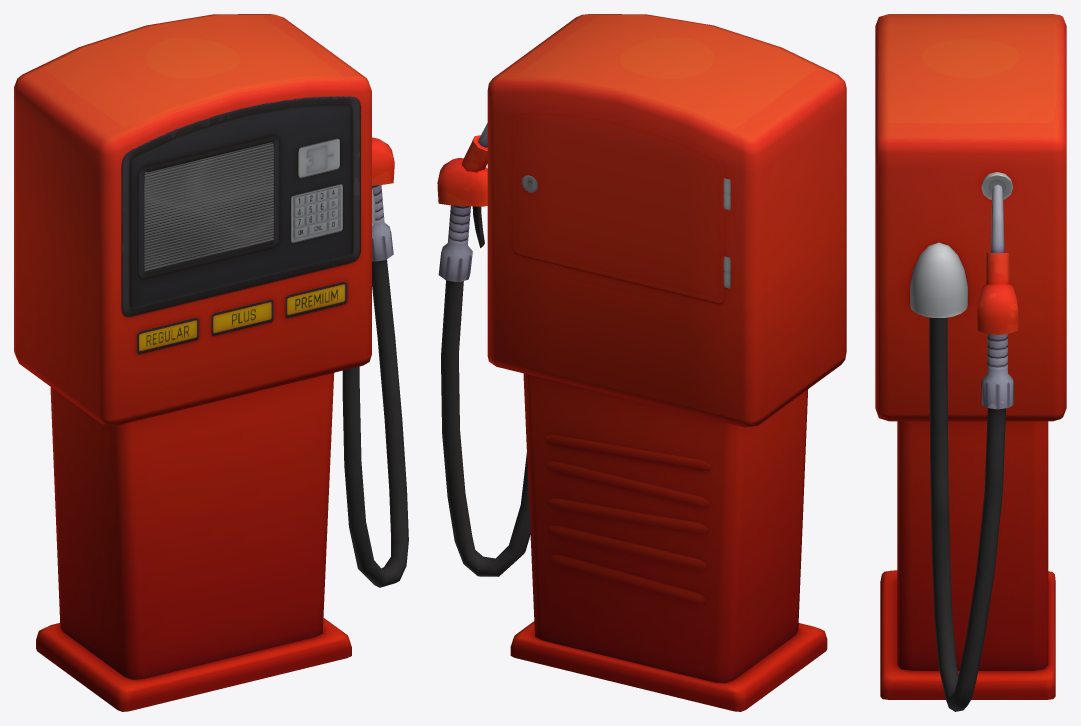
File: GasStationPump01.FBX
3 renders of one model, left to right at view 1: azimuth 30°, elevation 25°; view 2: azimuth 150°, elevation 25°; view 3: azimuth 270°, elevation 25°, orthographic.
Parts seen in each view (by area): view 1: GasStationPump01; view 2: GasStationPump01; view 3: GasStationPump01.
Part boxes in pixels (left/top/right/bottom): GasStationPump01: left=14, top=14, right=408, bottom=711; GasStationPump01: left=437, top=14, right=846, bottom=711; GasStationPump01: left=875, top=14, right=1066, bottom=711.
Size of what is drawn, in the model's own units: 1.15 by 1.87 by 0.5494.
